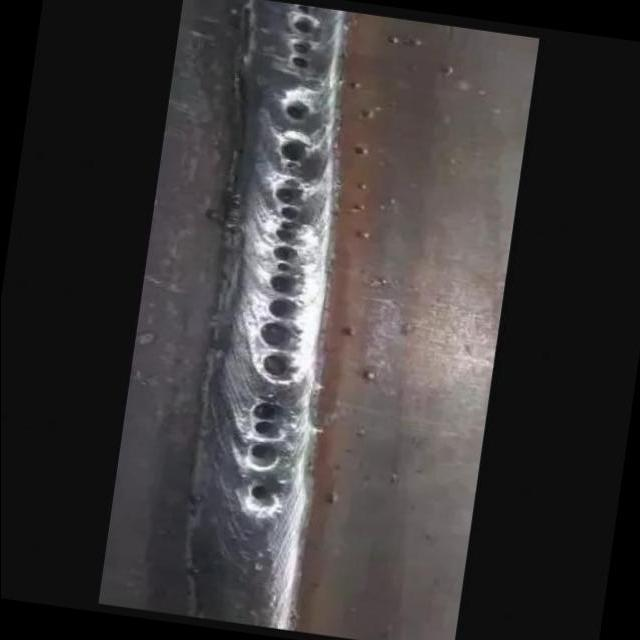defect: (254, 174, 305, 380), (241, 397, 289, 474), (285, 4, 316, 69), (270, 137, 311, 166), (277, 99, 310, 122), (250, 481, 276, 508)
